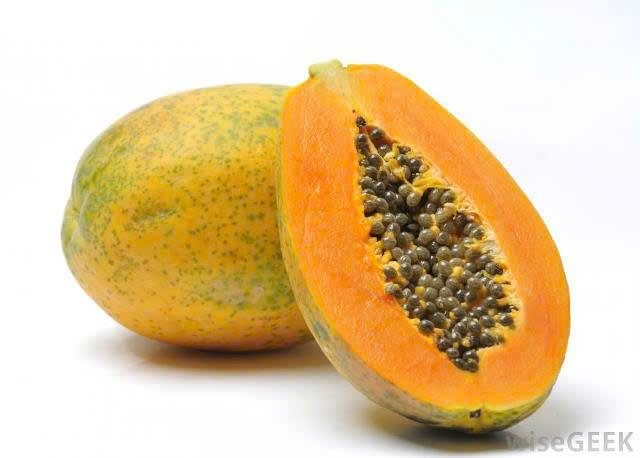papaya: (268, 48, 581, 434), (49, 74, 277, 362)
